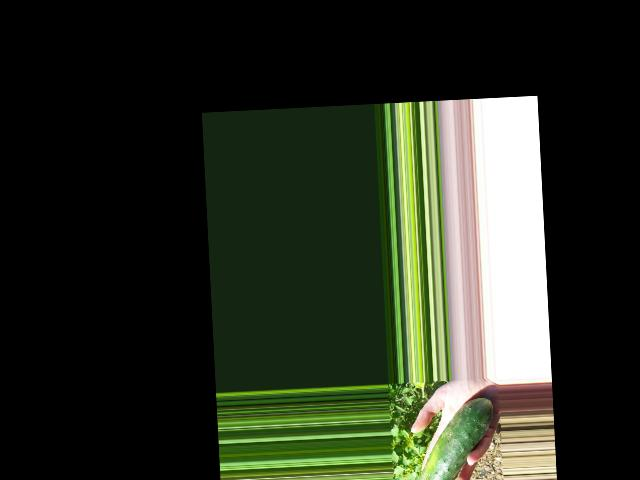cucumber: (412, 398, 497, 480)
